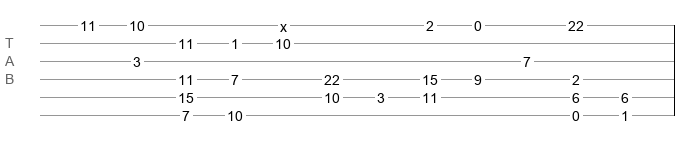0: (474, 18, 482, 28), (572, 108, 580, 118)
1: (231, 36, 239, 46), (621, 108, 629, 118)
10: (129, 18, 145, 28), (227, 108, 243, 118), (275, 36, 291, 46), (324, 90, 340, 100)
11: (80, 18, 96, 28), (178, 72, 194, 82), (178, 36, 194, 46), (422, 90, 438, 100)
15: (178, 90, 194, 100), (422, 72, 438, 82)
2: (426, 18, 434, 28), (572, 72, 580, 82)
22: (324, 72, 340, 82), (568, 18, 584, 28)
3: (133, 54, 141, 64), (377, 90, 385, 100)
6: (572, 90, 580, 100), (621, 90, 629, 100)
7: (182, 108, 190, 118), (231, 72, 239, 82), (523, 54, 531, 64)
9: (474, 72, 482, 82)
x: (280, 19, 287, 27)
